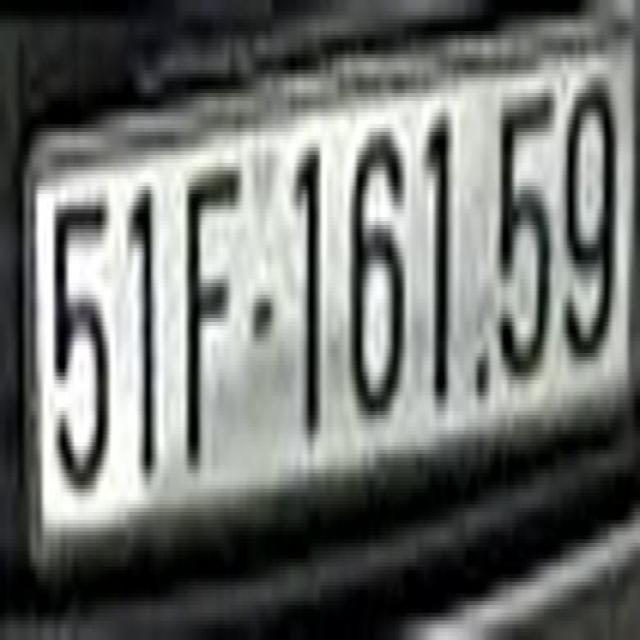1: (288, 124, 328, 438), (420, 108, 460, 412), (123, 174, 160, 473)
5: (49, 182, 112, 493), (494, 73, 556, 384)
6: (349, 109, 408, 438)
9: (563, 58, 618, 384)
F: (183, 148, 242, 462)
